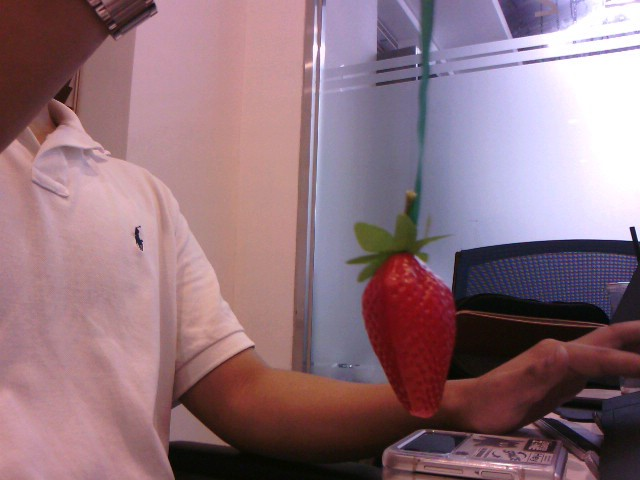strawberry: (347, 234, 460, 421), (490, 0, 605, 39)
